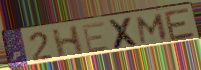2: (27, 30, 55, 63)
E: (163, 6, 198, 43), (81, 20, 112, 55)
H: (51, 24, 85, 60)
M: (135, 13, 169, 46)
X: (106, 16, 142, 51)
